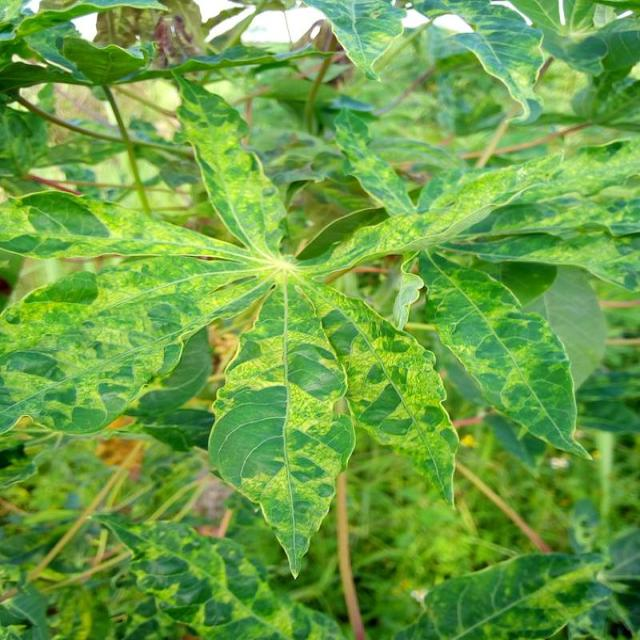cassava leaf: (1, 2, 638, 580), (206, 277, 356, 578)
